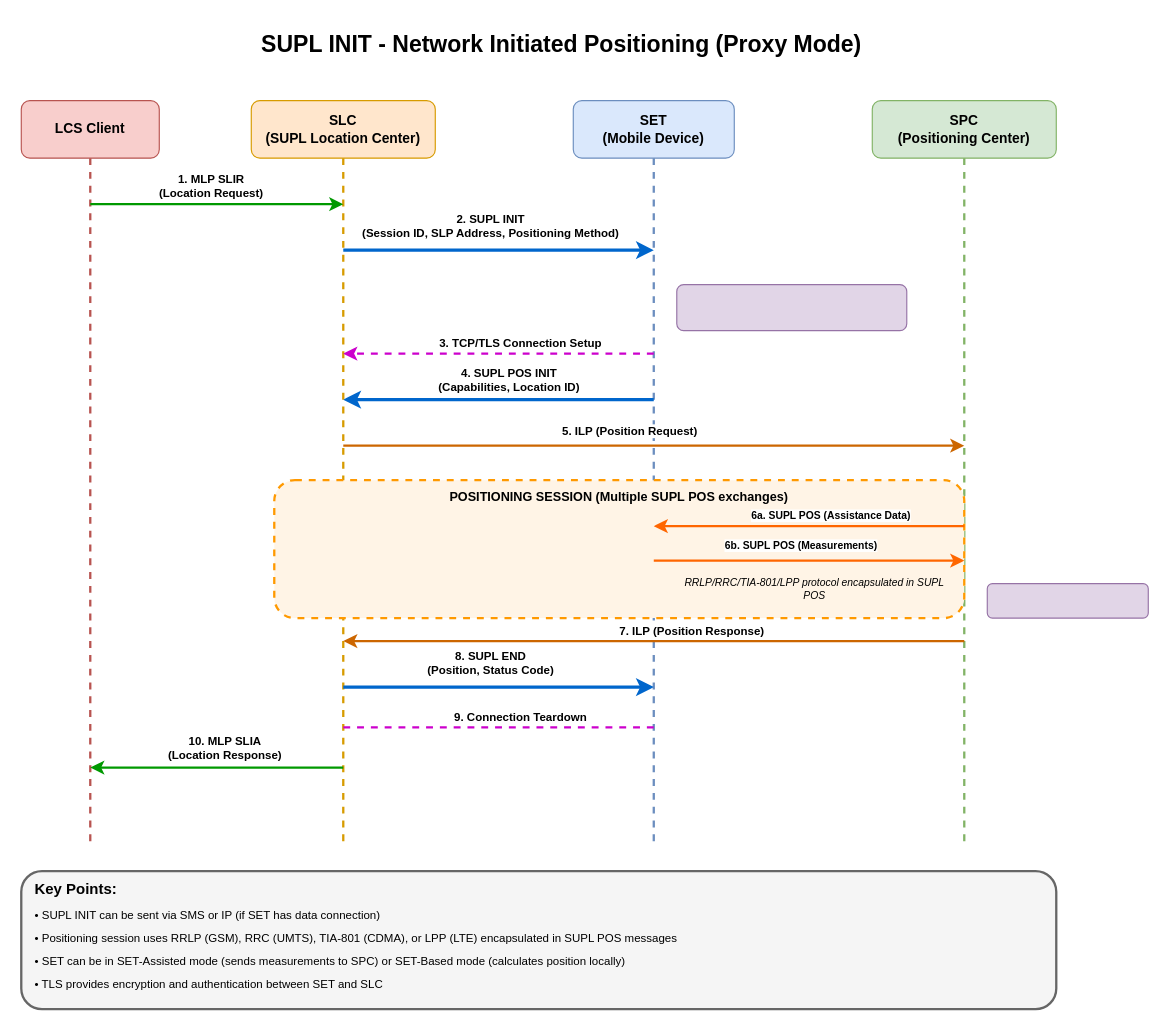
The diagram is 1168 pixels wide and 1029 high, and some of its shapes have lost their labels. Here are the shapes that lost their labels. From the top down, the centre of each, then its label:
At (791,307): "SET processes INIT Establishes data connection if needed".
At (1067,600): "Position Calculation".
